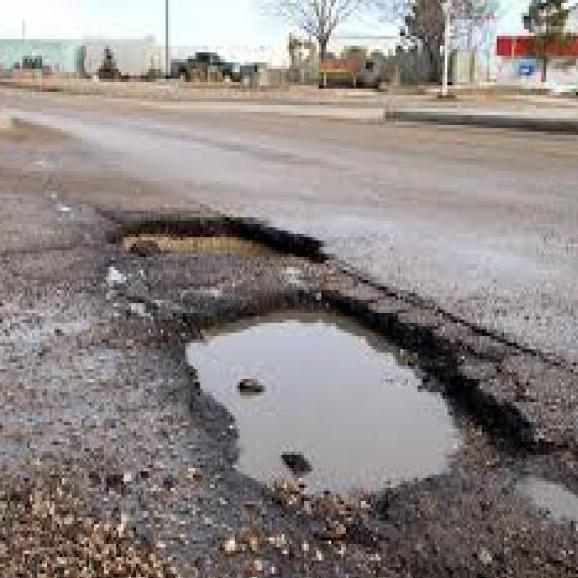pothole: (162, 279, 537, 517), (112, 196, 341, 269)
